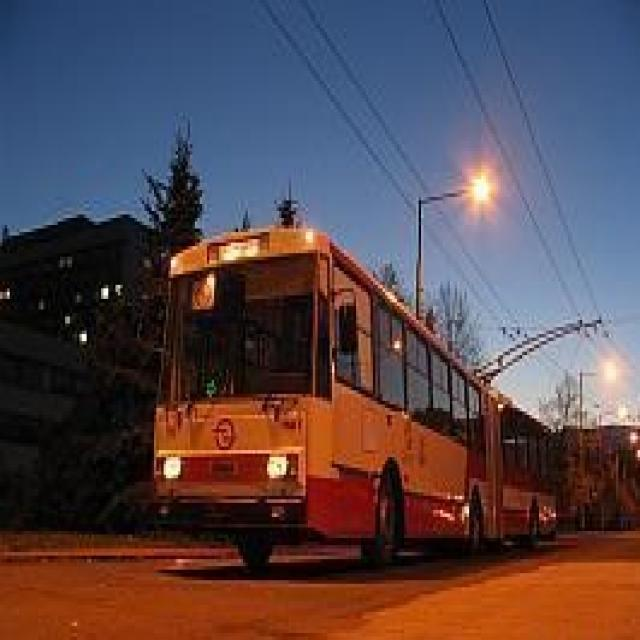Bus: (145, 230, 567, 596)
